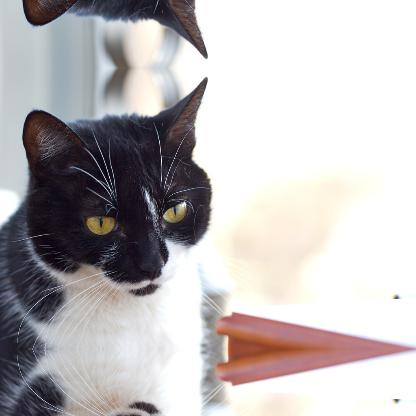Cat: (0, 73, 210, 347), (0, 349, 211, 415), (0, 0, 211, 62)
